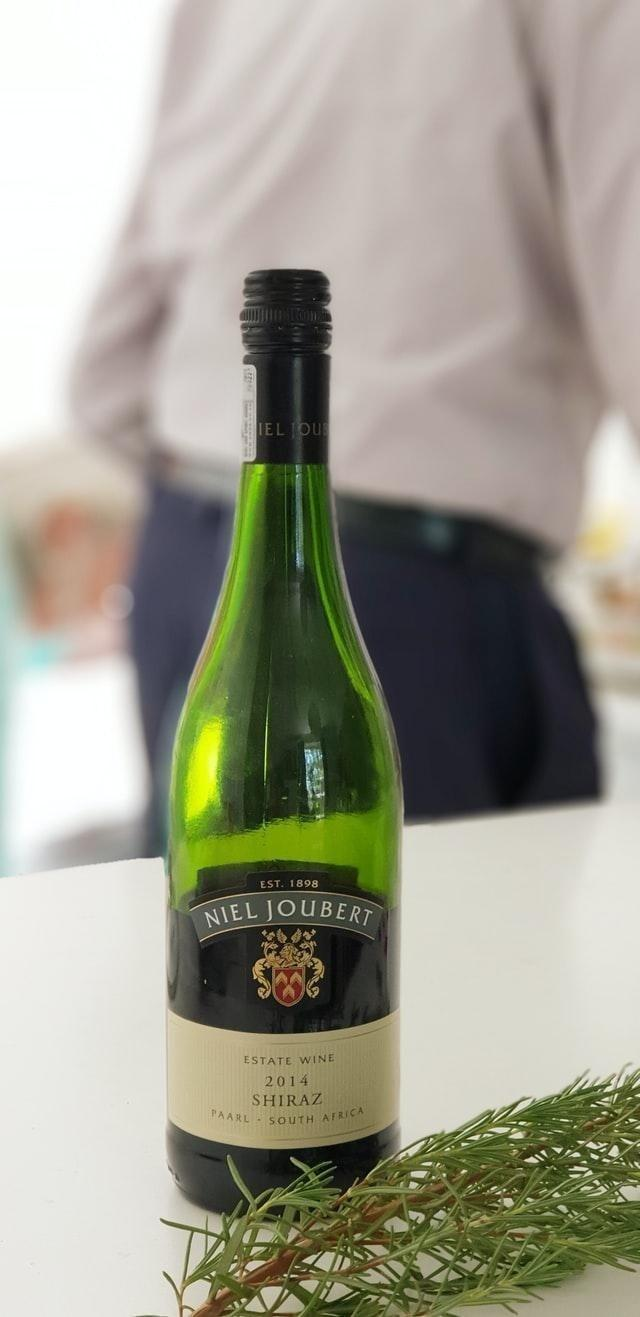bottle-glass: (151, 263, 415, 1242)
